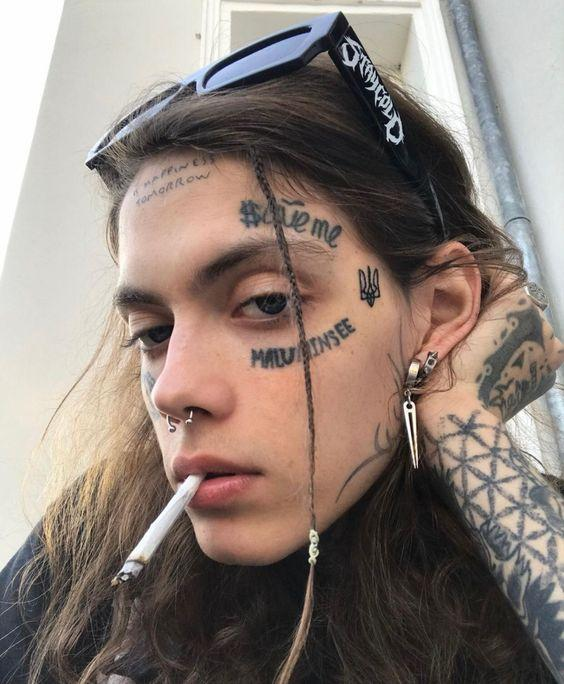cigarette: (110, 473, 208, 589)
